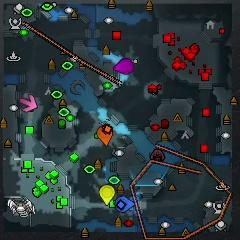p1: (115, 196, 136, 214)
p3: (114, 57, 134, 74)
p4: (100, 185, 115, 205)
p5: (96, 125, 113, 146)
x1: (20, 94, 37, 112)
